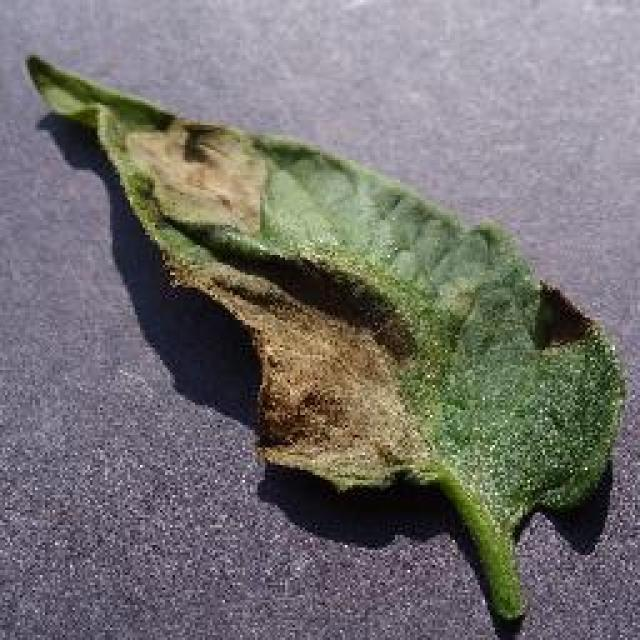Tomato Late Blight: (115, 72, 598, 503)
